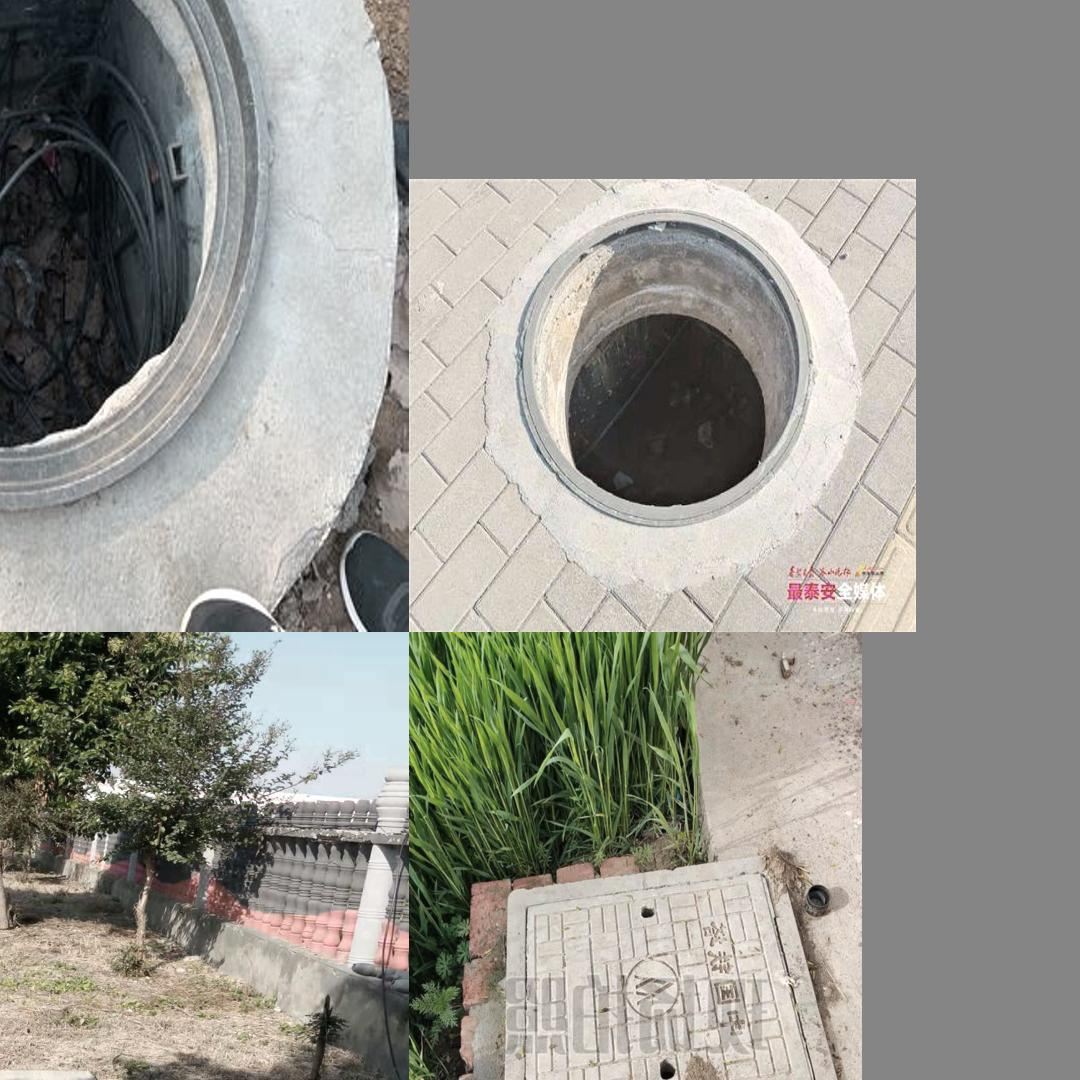lose: (0, 0, 384, 613), (493, 189, 859, 564), (510, 840, 841, 1080)
